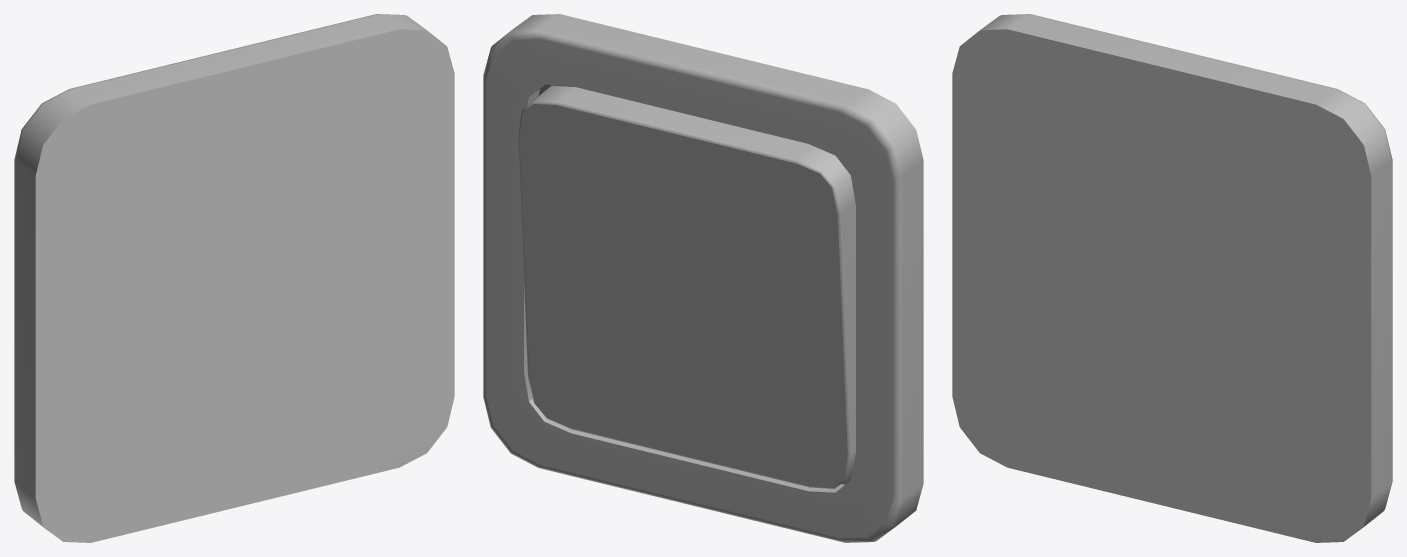
File: light_switch (1).glb
3 renders of one model, left to right at view 1: azimuth 30°, elevation 25°; view 2: azimuth 150°, elevation 25°; view 3: azimuth 330°, elevation 25°, orthographic.
Visible parts, largest first — view 1: LampButton_Button; view 2: LampButton_Button; view 3: LampButton_Button.
Part boxes in pixels (<box>): LampButton_Button: <box>14,14,454,542</box>; LampButton_Button: <box>483,14,923,542</box>; LampButton_Button: <box>952,14,1392,542</box>.
Bounding box in the file's own units: 0.08 × 0.08 × 0.0124.
1 material, 1 textured.
